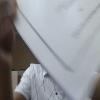notebook: (11, 0, 99, 99)
